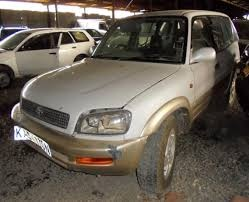Scratch: (106, 142, 124, 161)
